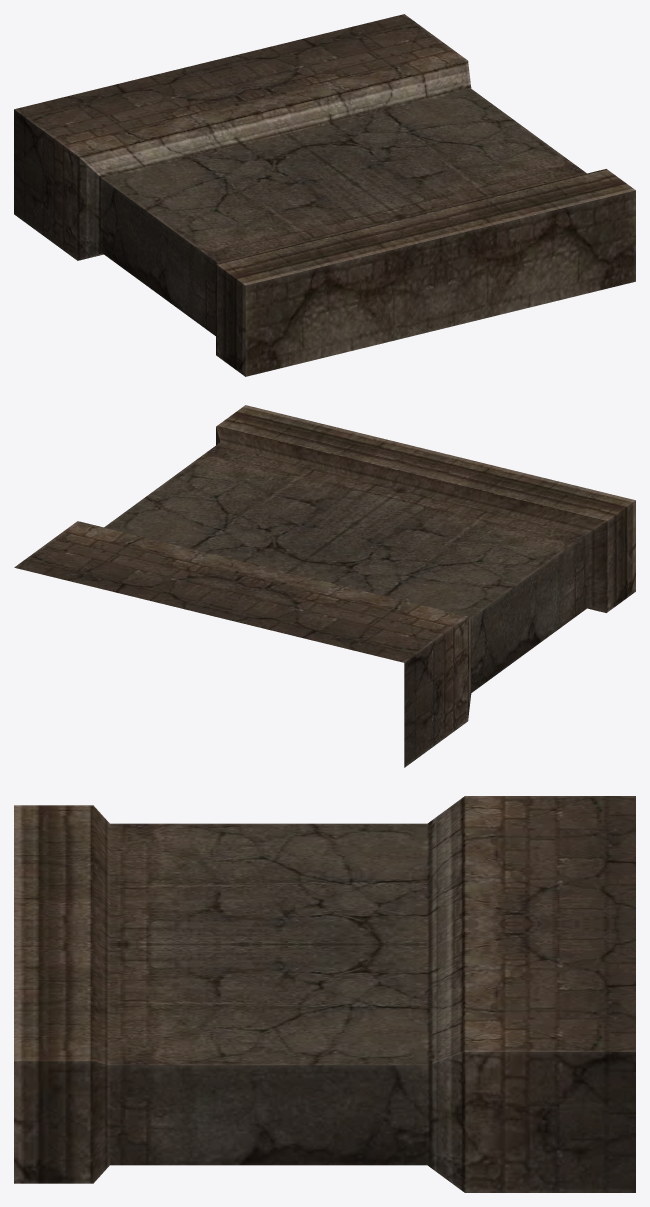
The picture shows the model from 3 angles, top to bottom: view 1: azimuth 30°, elevation 25°; view 2: azimuth 150°, elevation 25°; view 3: azimuth 270°, elevation 25°; orthographic projection. The views are drawn at different scales.
Visible parts, largest first — view 1: model_Object32; view 2: model_Object32; view 3: model_Object32.
Boxes of the visible parts, x1,y1,x2,y2 form: model_Object32: [14, 14, 635, 376]; model_Object32: [14, 405, 635, 767]; model_Object32: [14, 796, 635, 1192].
Size of the model in its own units: 2.39 by 0.6132 by 2.45.
1 material, 1 textured.
